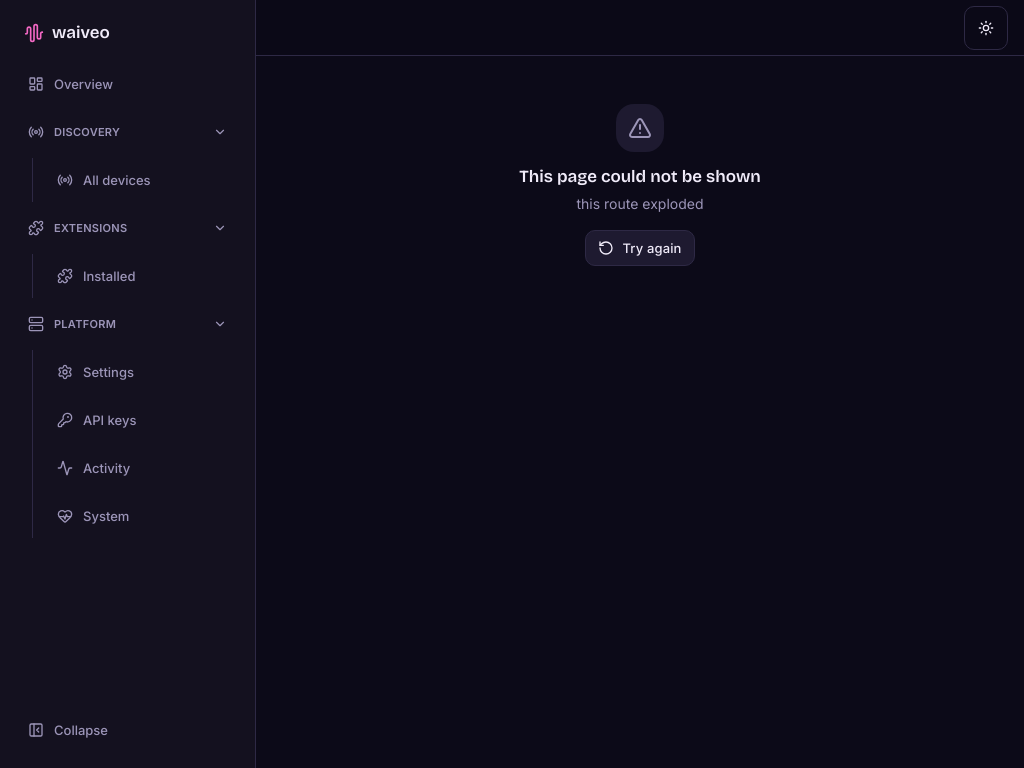
AppShell — a route that THROWS › clears the caught error when the operator navigates away
Check: the message "This page could not be shown this route exploded Try again" is shown, box top-left (519, 104), bottom-right (761, 266)
Click the link "Overview" at [70, 84], box top-left (28, 76), bottom-right (113, 92)
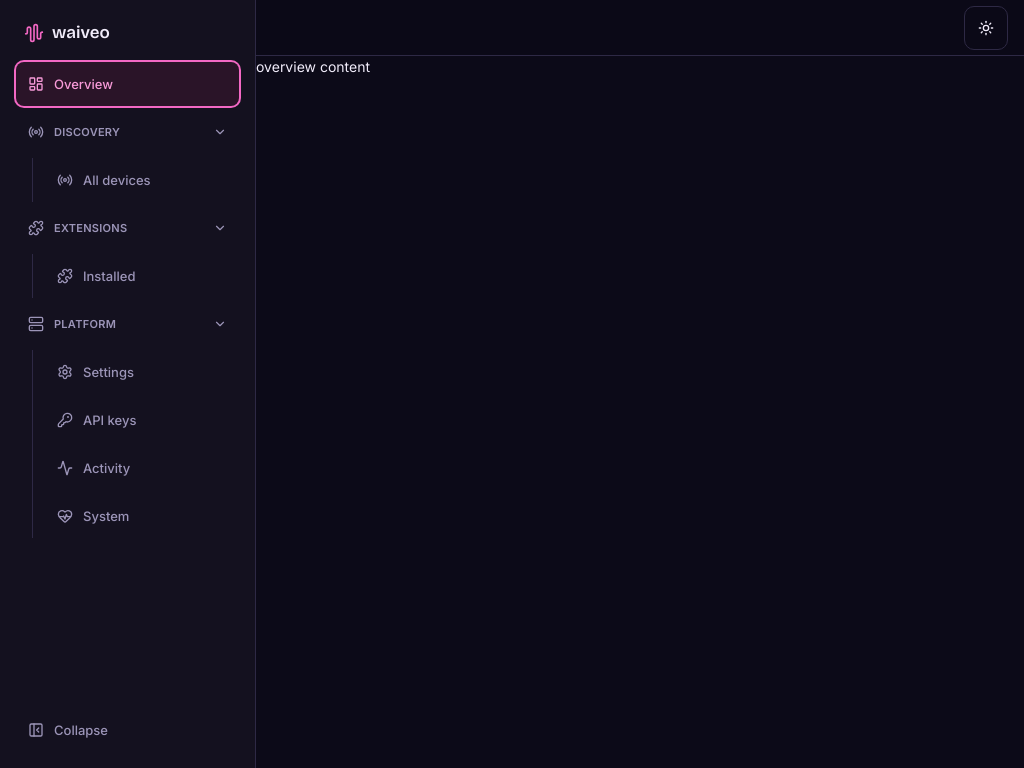
Check: the text "overview content" is shown, box top-left (256, 58), bottom-right (370, 75)
Check: the message "This page could not be shown this route exploded Try again" is gone
